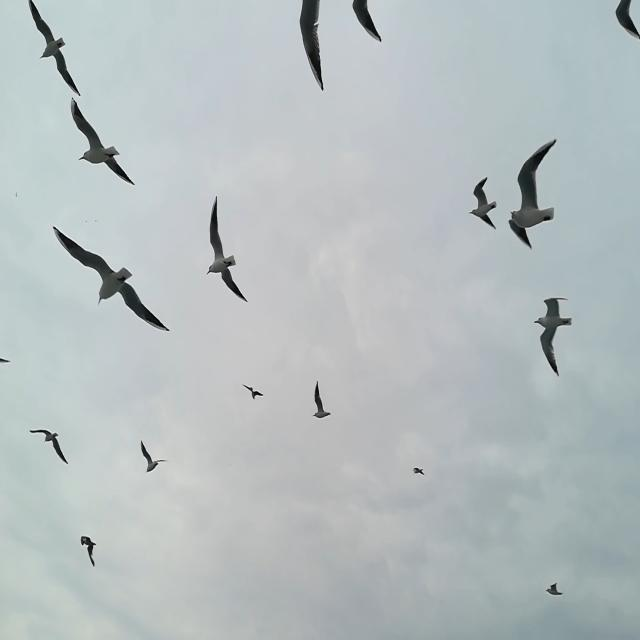bird: (52, 226, 170, 333), (70, 97, 135, 186), (509, 139, 558, 250), (28, 0, 81, 97), (206, 197, 248, 305), (533, 297, 573, 377), (298, 0, 326, 92), (469, 175, 497, 231), (29, 428, 69, 463), (352, 0, 382, 42), (615, 0, 640, 42), (140, 441, 169, 472), (312, 380, 332, 420), (80, 535, 97, 567), (242, 382, 264, 402), (545, 581, 562, 596), (412, 466, 424, 477), (0, 357, 11, 365), (15, 191, 18, 198), (85, 220, 88, 223), (94, 220, 98, 222)
